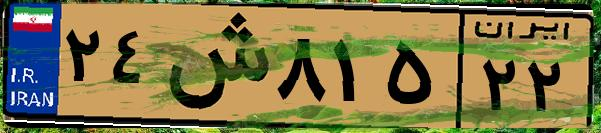1: (330, 28, 385, 110)
2: (57, 26, 110, 100), (475, 38, 525, 113), (525, 38, 570, 115)
4: (110, 28, 158, 98)
5: (385, 28, 445, 110)
8: (270, 28, 330, 110)
ش: (158, 12, 270, 120)
